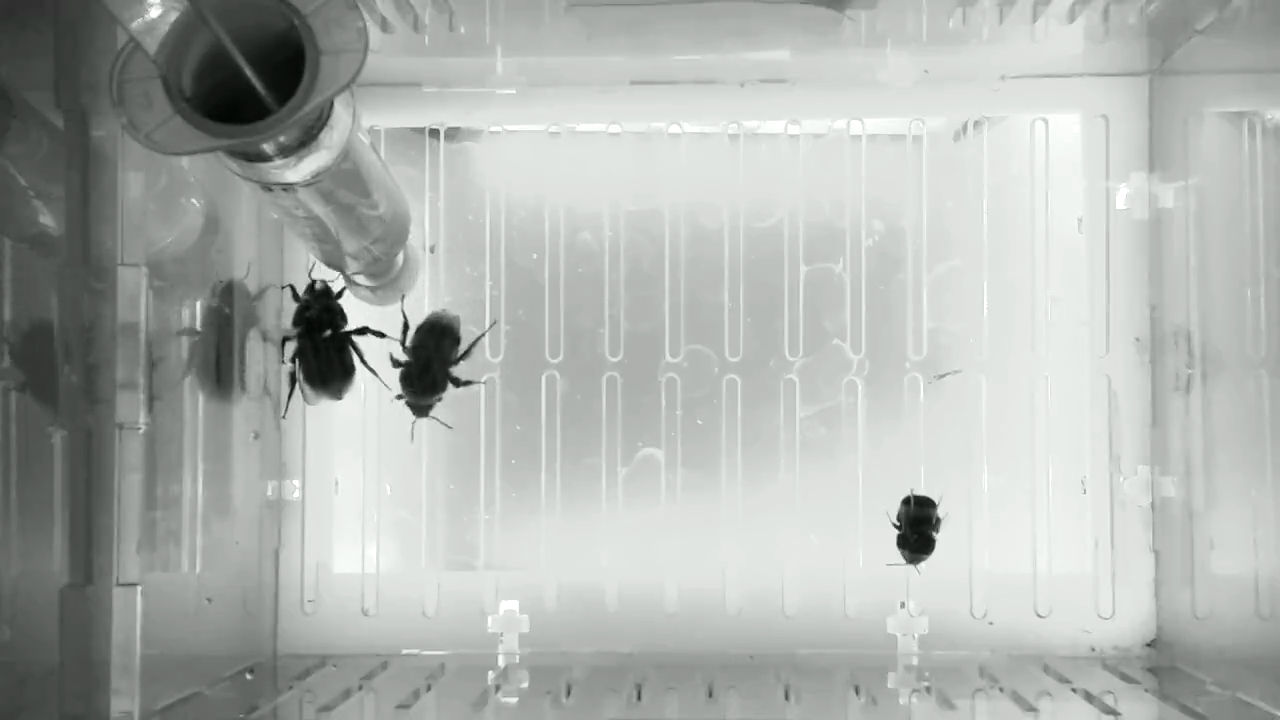bee_alive: (274, 259, 405, 427), (385, 287, 502, 447)
bee_dead: (879, 483, 951, 581)
feeder: (247, 109, 412, 273)
